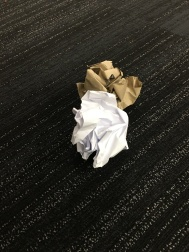paper_brown: (64, 86, 137, 171), (69, 55, 145, 119)
